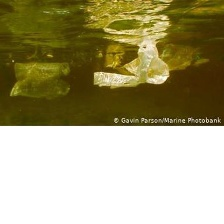plastic_bag: (90, 38, 173, 91), (8, 58, 75, 103)
